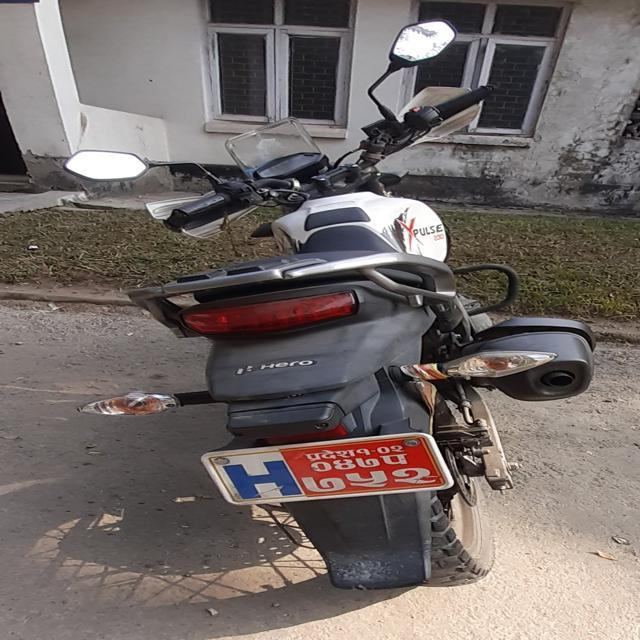license_plate: (188, 428, 472, 524)
